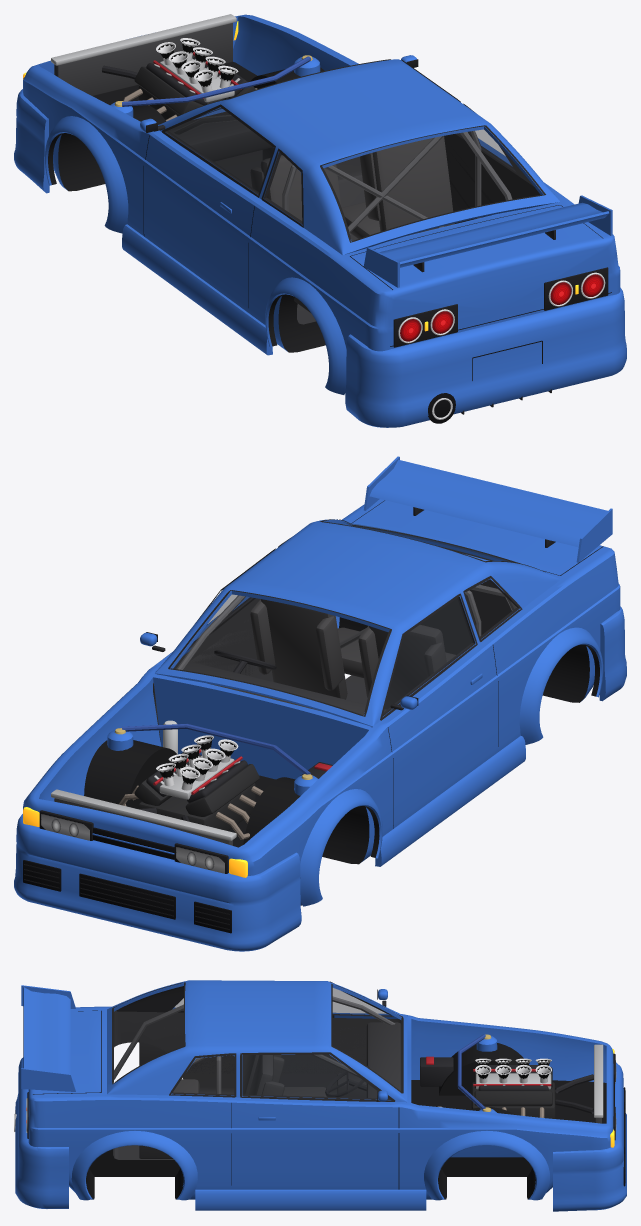
Rendered from ryu32.glb.
3 views of the same model, one above another, from view 1: azimuth 30°, elevation 25°; view 2: azimuth 150°, elevation 25°; view 3: azimuth 270°, elevation 25° (orthographic). The views are drawn at different scales.
Parts seen in each view (by area): view 1: RYU32_Body; view 2: RYU32_Body; view 3: RYU32_Body.
Part boxes in pixels (x1,y1,x2,y2): RYU32_Body: [14, 14, 626, 427]; RYU32_Body: [14, 456, 626, 951]; RYU32_Body: [14, 980, 626, 1211].
Bounding box in the file's own units: 1.88 × 1.25 × 4.55.
Materials: 3 (1 with a texture image).
